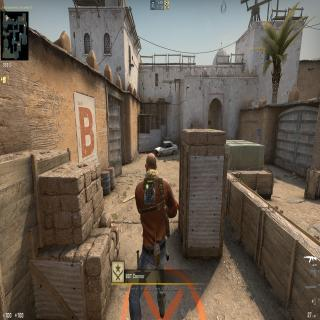T-Head: (144, 151, 158, 174)
